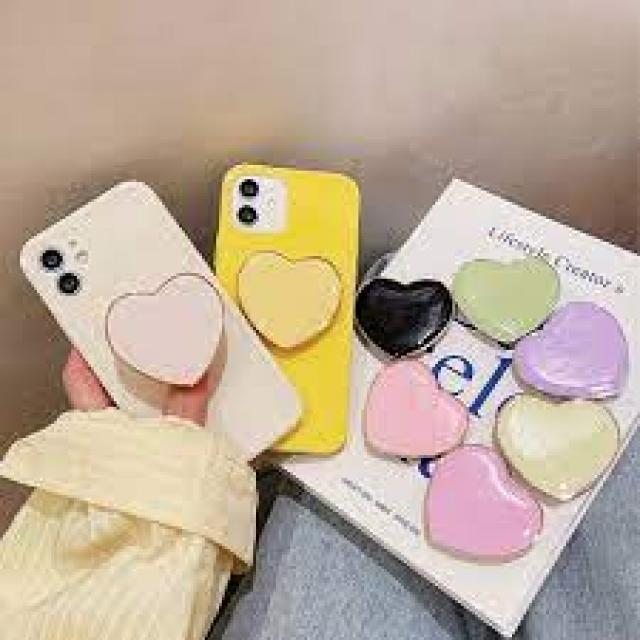Phone: (24, 175, 308, 467), (216, 165, 362, 452)
